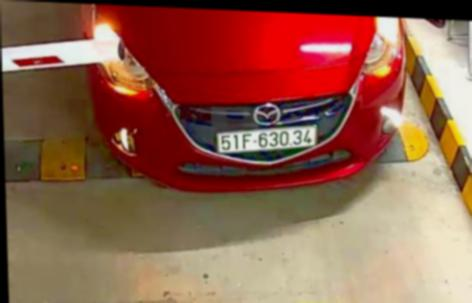License_Plate: (213, 122, 319, 160)
